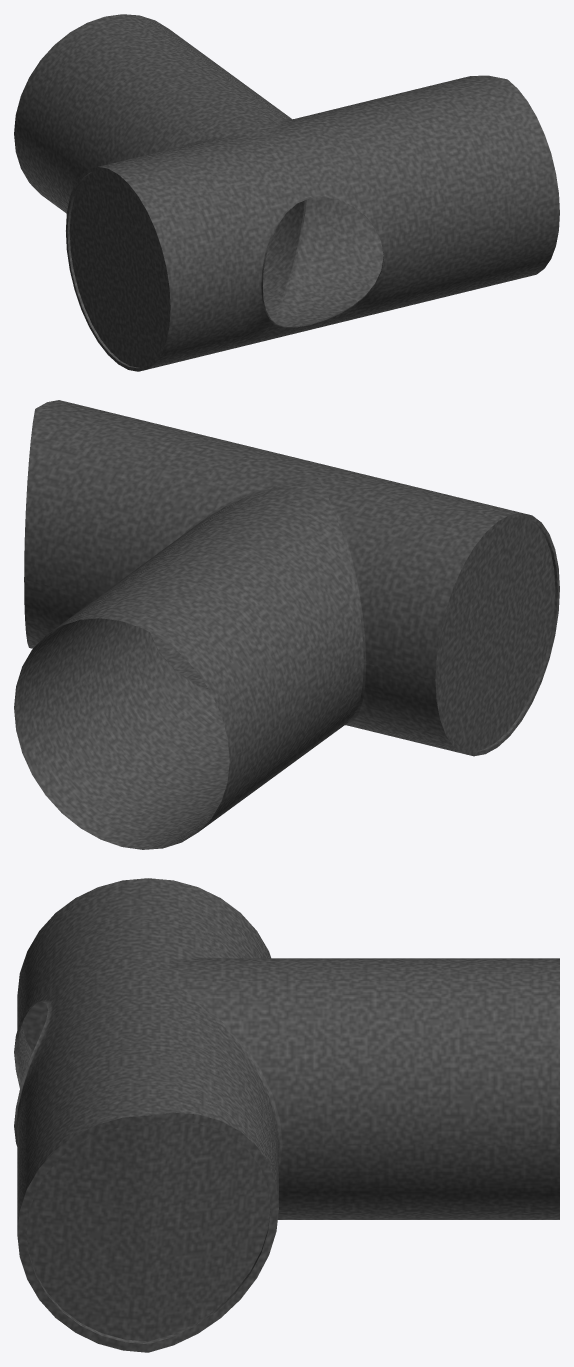
3 views of the same model, one above another, from view 1: azimuth 30°, elevation 25°; view 2: azimuth 150°, elevation 25°; view 3: azimuth 270°, elevation 25° (orthographic). The views are drawn at different scales.
Bounding box in the file's own units: 0.1154 × 0.054 × 0.1122.
1 material, 1 textured.
